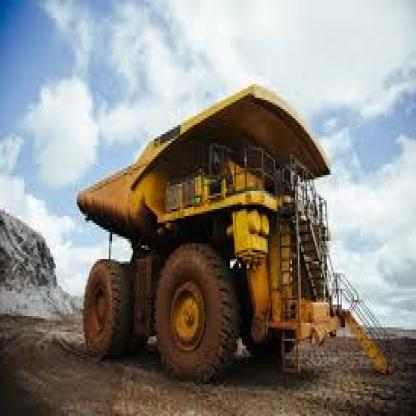dump_truck: (62, 77, 369, 402)
